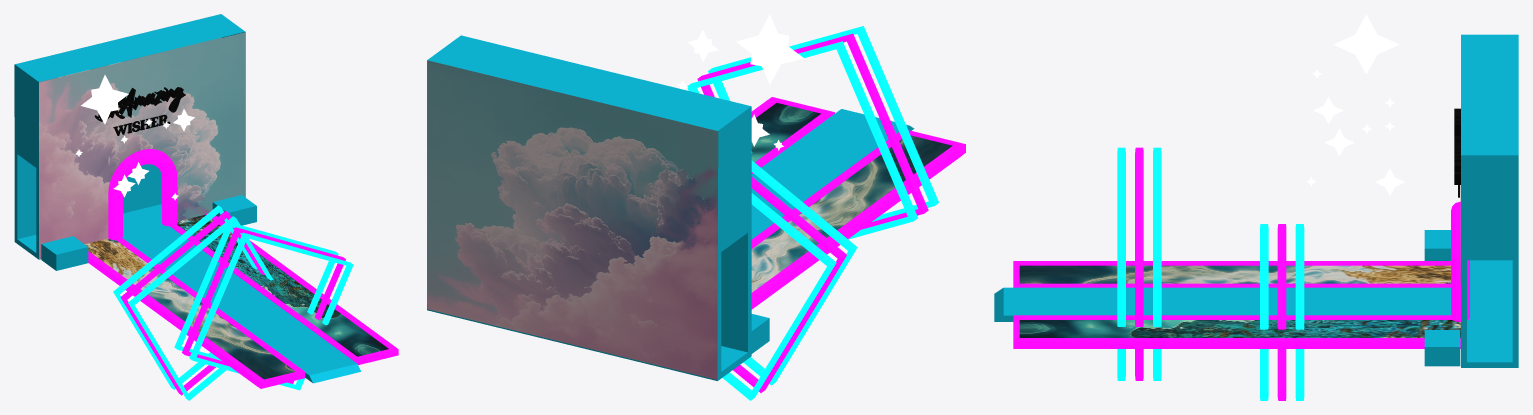
3 views of the same model, side by side, from view 1: azimuth 30°, elevation 25°; view 2: azimuth 150°, elevation 25°; view 3: azimuth 270°, elevation 25° (orthographic). The views are drawn at different scales.
Visible parts, largest first — view 1: Plane, Cube.008, runway, Cube.010, Plane.002, Plane.003, Torus.001, Cube.003, Cube.004, Cube.007, Cube.005, Table-L (+10 smaller); view 2: Plane.001, Cube.008, Cube.010, runway, Plane.002, Cube.007, Cube.005, Cube.003, Cube.004, Plane.003, Cube.012, Cube.002 (+3 smaller); view 3: Cube.008, runway, Plane.002, Plane.003, Cube.010, Cube.009, Cube.006, Cube.001, Cube.007, Cube.002, Cube.004, Cube.005 (+6 smaller).
Boxes of the visible parts, box(x1,y1,x2,y2) form: Plane: box(39, 32, 245, 258); Cube.008: box(14, 14, 245, 257); runway: box(122, 223, 360, 383); Cube.010: box(174, 221, 353, 390); Plane.002: box(85, 238, 295, 379); Plane.003: box(177, 214, 388, 356); Torus.001: box(108, 149, 177, 240); Cube.003: box(128, 216, 273, 400); Cube.004: box(120, 211, 264, 395); Cube.007: box(88, 251, 263, 386); Cube.005: box(113, 205, 257, 389); Table-L: box(41, 236, 88, 270); Plane.001: box(427, 60, 718, 379); Cube.008: box(427, 35, 751, 378); Cube.010: box(687, 26, 938, 239); runway: box(751, 109, 914, 239); Plane.002: box(751, 135, 952, 292); Cube.007: box(751, 145, 962, 309); Cube.005: box(722, 193, 836, 400); Cube.003: box(743, 160, 857, 385); Cube.004: box(733, 177, 846, 392); Plane.003: box(751, 103, 820, 162); Cube.012: box(736, 14, 803, 84); Cube.002: box(751, 132, 901, 248); Cube.008: box(1461, 34, 1518, 362); runway: box(994, 287, 1450, 321); Plane.002: box(1019, 265, 1450, 283); Plane.003: box(1019, 320, 1460, 337); Cube.010: box(1117, 147, 1161, 380); Cube.009: box(1461, 260, 1518, 367); Cube.006: box(1019, 338, 1460, 348); Cube.001: box(1019, 315, 1452, 319); Cube.007: box(1019, 261, 1450, 265); Cube.002: box(1019, 283, 1450, 287); Cube.004: box(1277, 224, 1286, 400); Cube.005: box(1295, 224, 1304, 400).
Size of what is drawn, in the model's own units: 16.04 by 22.5 by 29.41.
8 materials, 3 textured.
